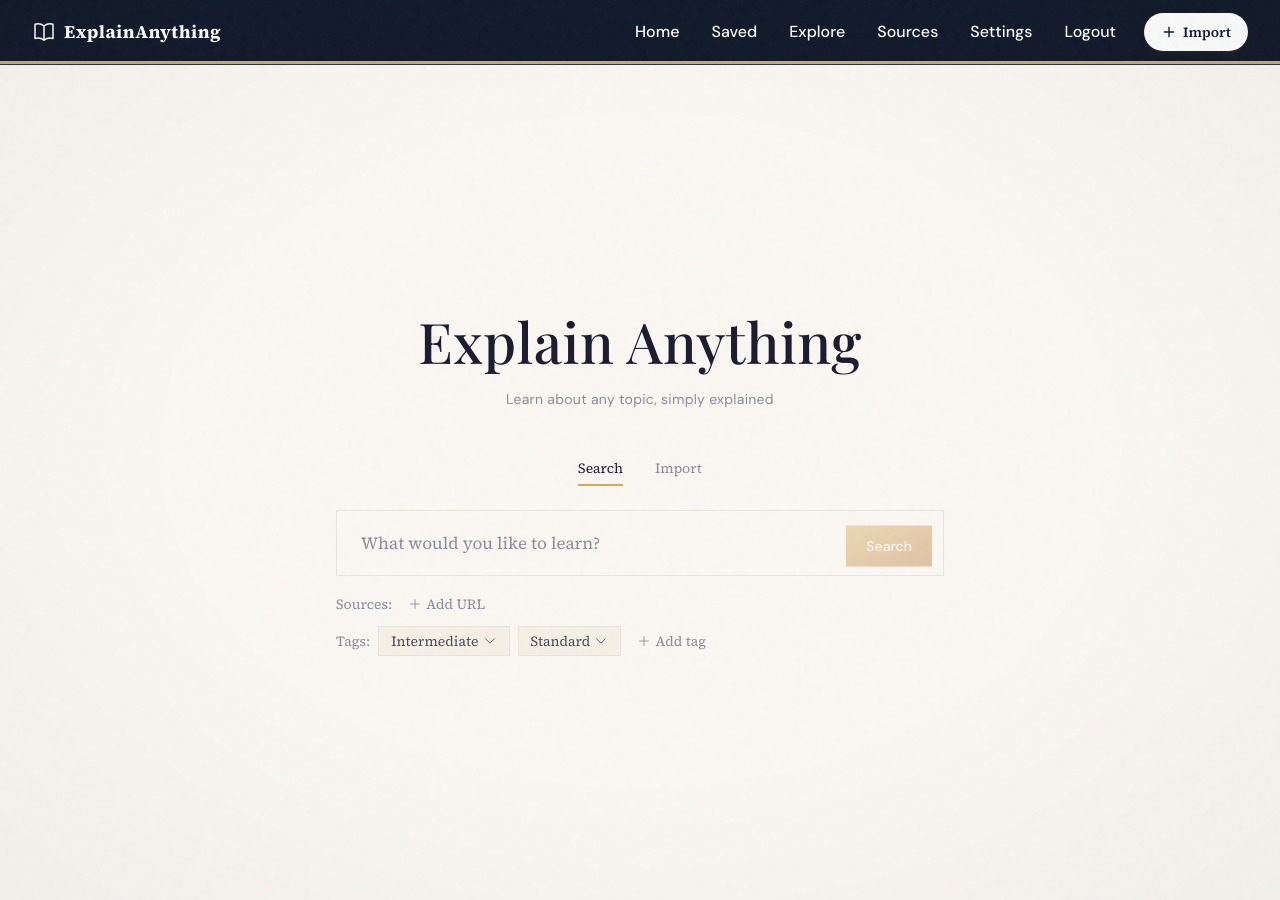
Test: Home › State Management › should preserve search query when switching tabs
Type in search input
Type "quantum physics" into the text box with test id "home-search-input" at (640, 543), box [336,510,944,576]
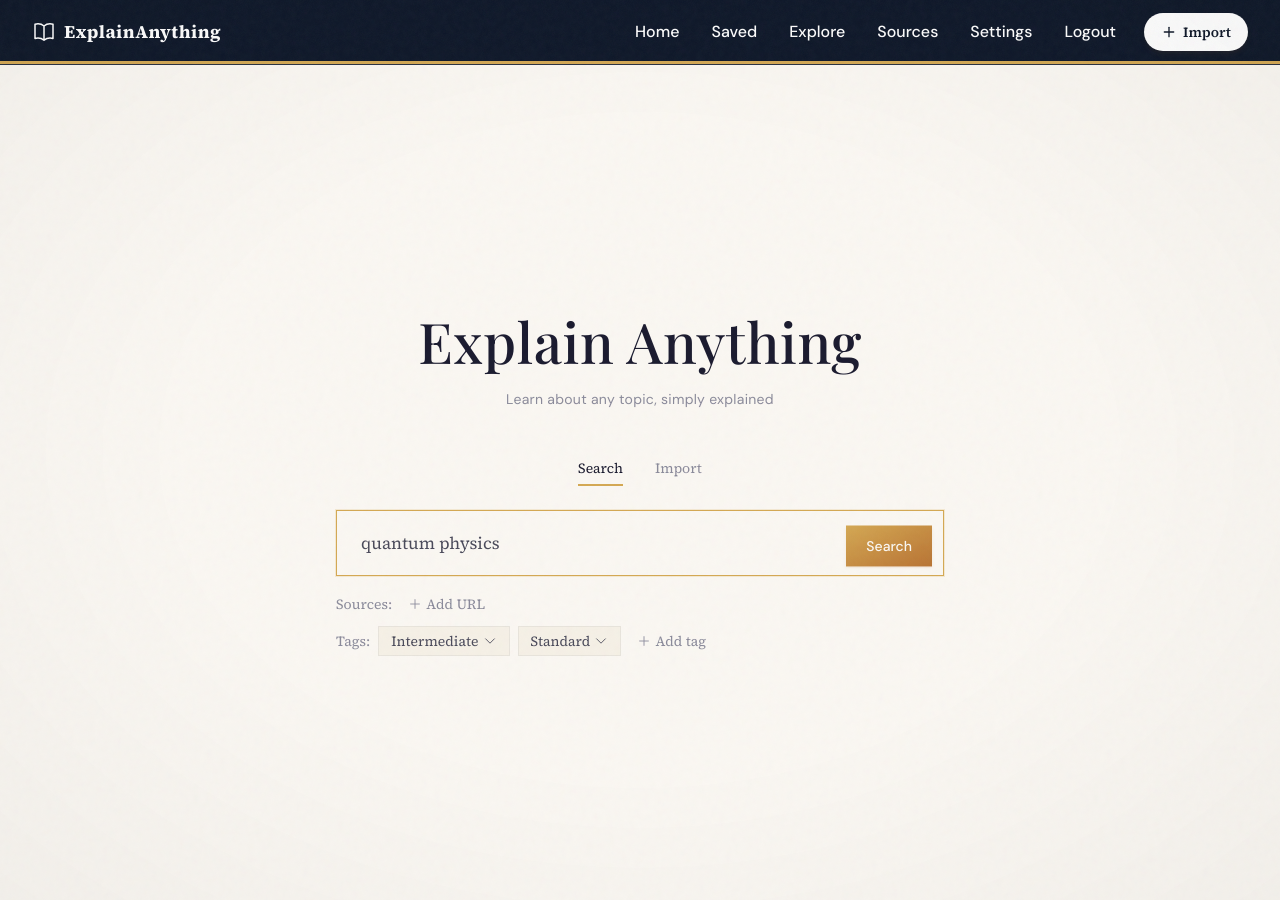
Switch to Import tab
Click the tab with test id "home-tab-import" at (678, 472), box [655,458,702,486]
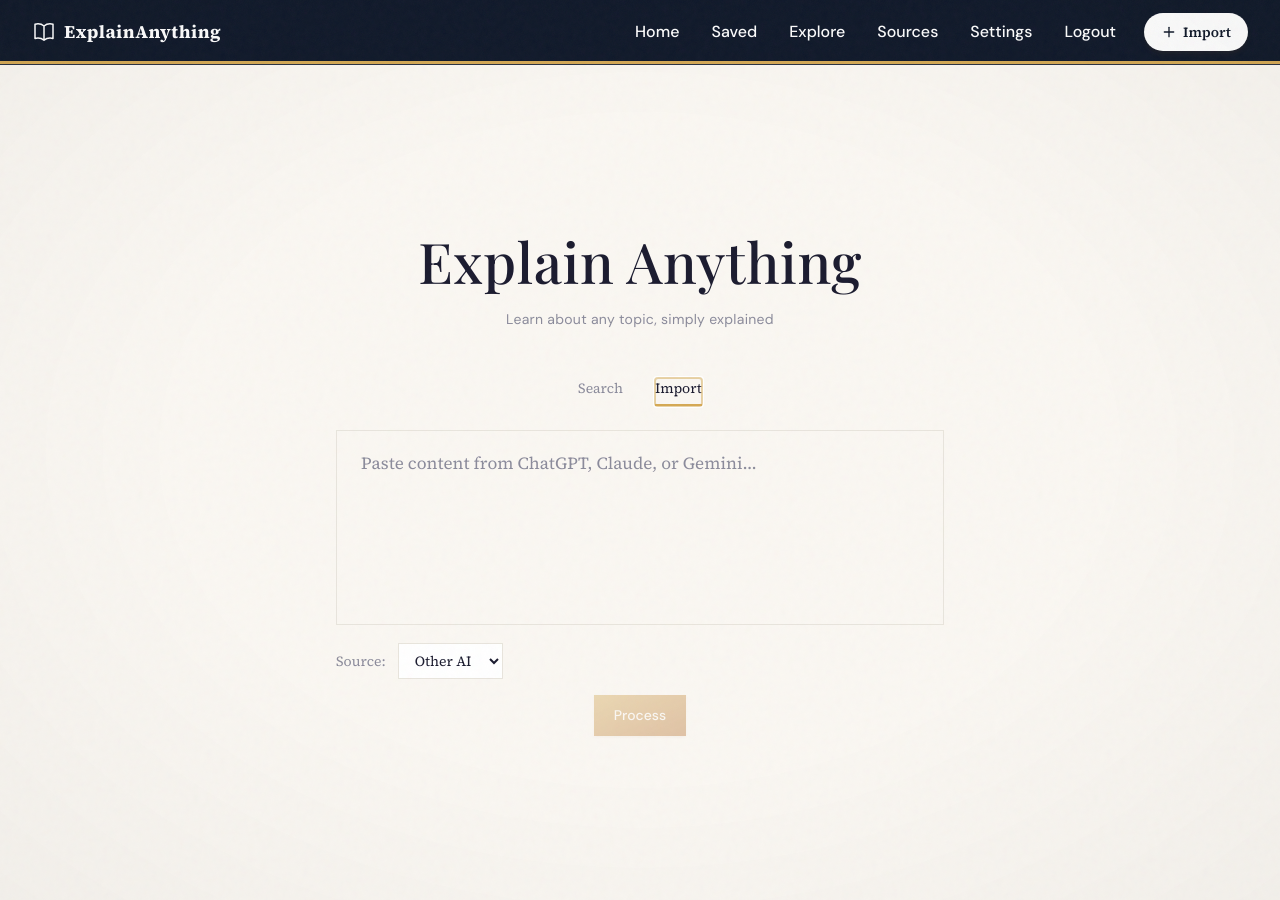
Switch back to Search tab
Click the tab with test id "home-tab-search" at (600, 392), box [578,378,623,406]
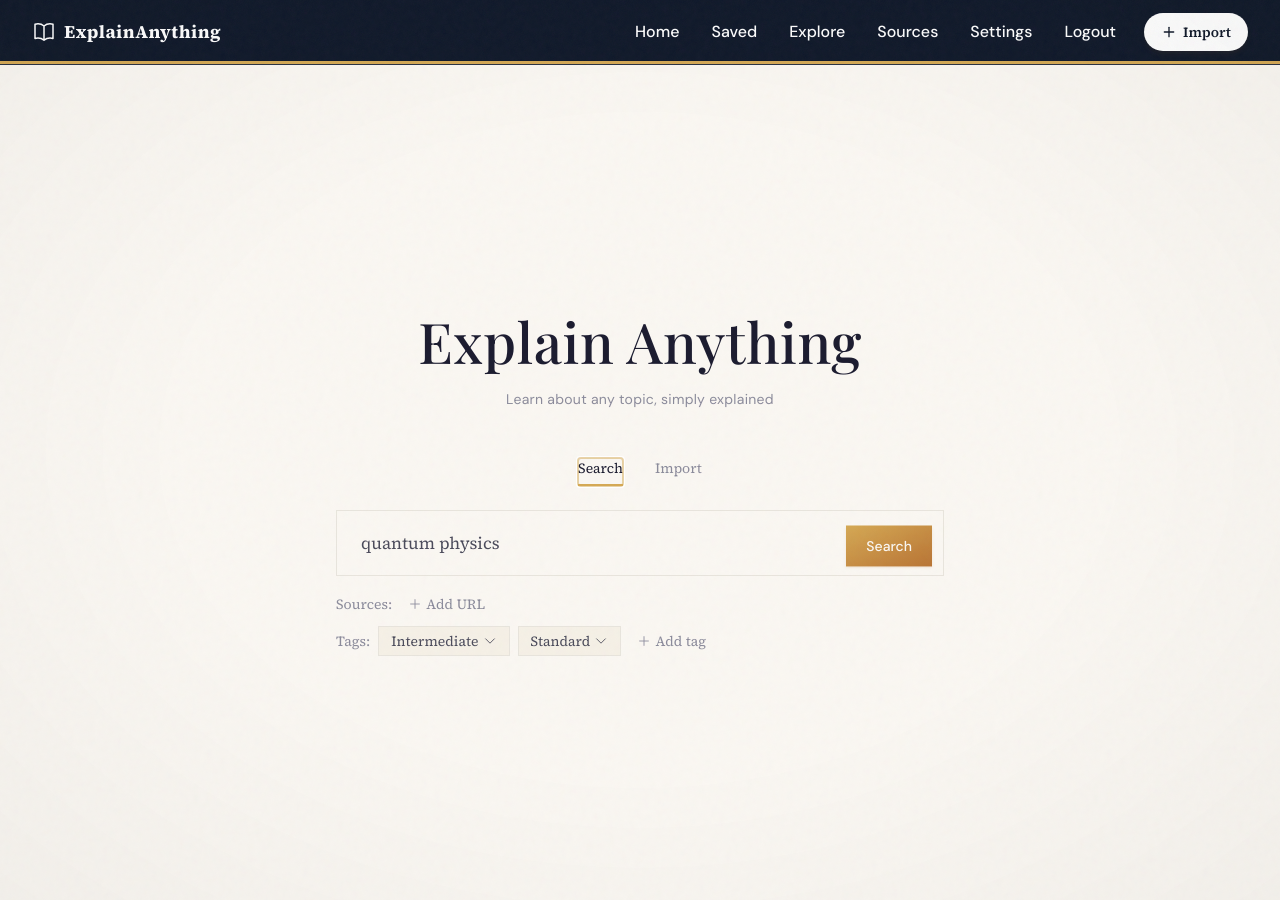
Expected: the text box with test id "home-search-input" holds "quantum physics", [336,510,944,576]
